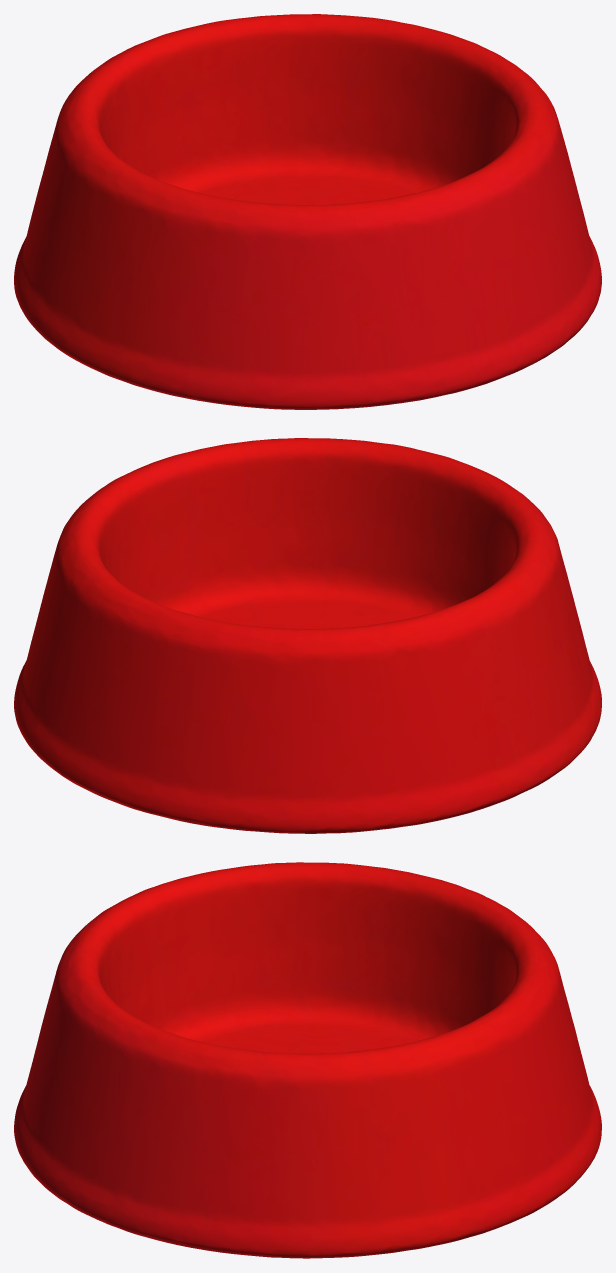
Rendered from bowl.glb.
3 renders of one model, top to bottom at view 1: azimuth 30°, elevation 25°; view 2: azimuth 150°, elevation 25°; view 3: azimuth 270°, elevation 25°, orthographic.
Visible parts, largest first — view 1: bowl2; view 2: bowl2; view 3: bowl2.
Boxes of the visible parts, x1=… form: bowl2: x1=14, y1=14, x2=601, y2=409; bowl2: x1=14, y1=438, x2=601, y2=833; bowl2: x1=14, y1=862, x2=601, y2=1258.
Bounding box in the file's own units: 0.3593 × 0.12 × 0.3593.
Materials: 1 (1 with a texture image).
